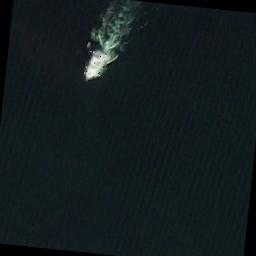boat: (82, 44, 108, 84)
